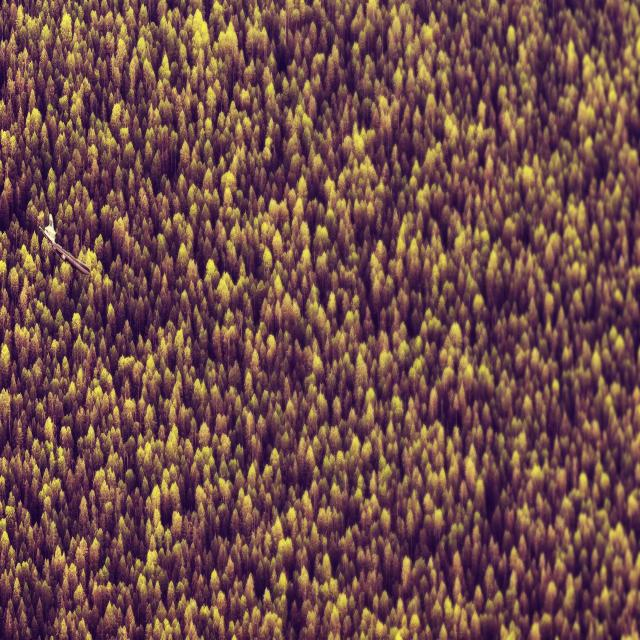airplane: (37, 213, 91, 276)
